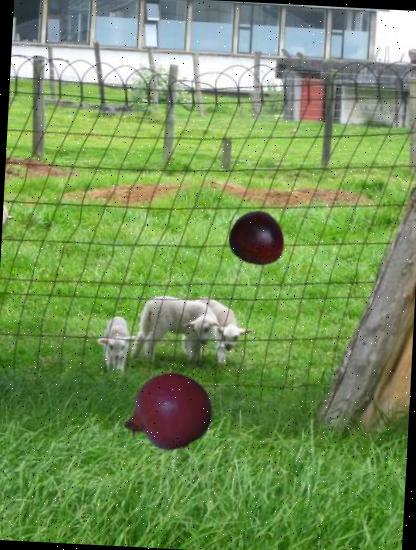Chestnut: (228, 208, 290, 269)
Pomegranate: (119, 364, 216, 461)
